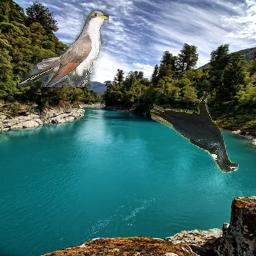Crow: (149, 91, 239, 174)
Cuckoo: (19, 11, 110, 88)
